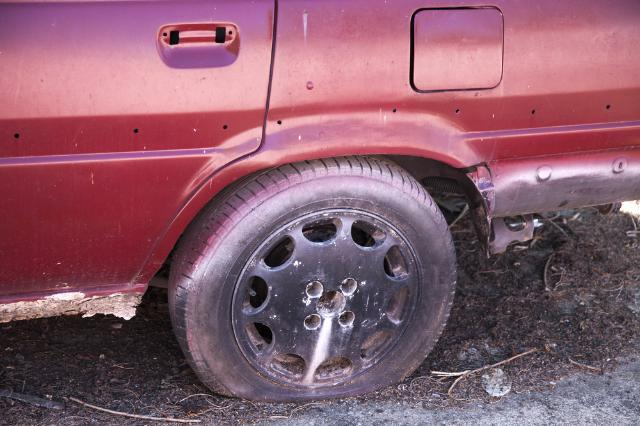tire flat: (168, 157, 458, 403)
